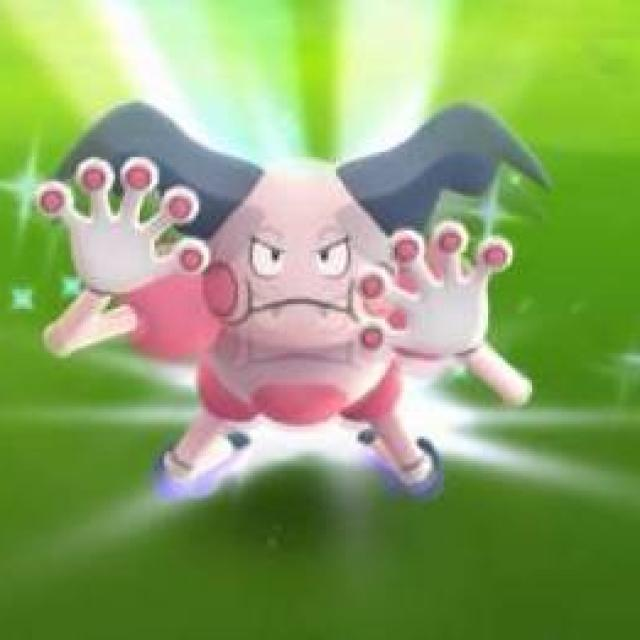MrMime: (99, 147, 514, 500)
